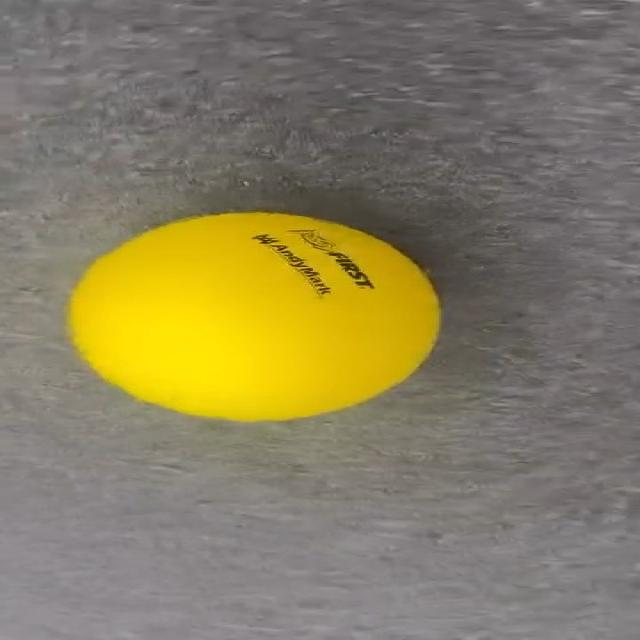Fuels: (71, 213, 436, 419)
